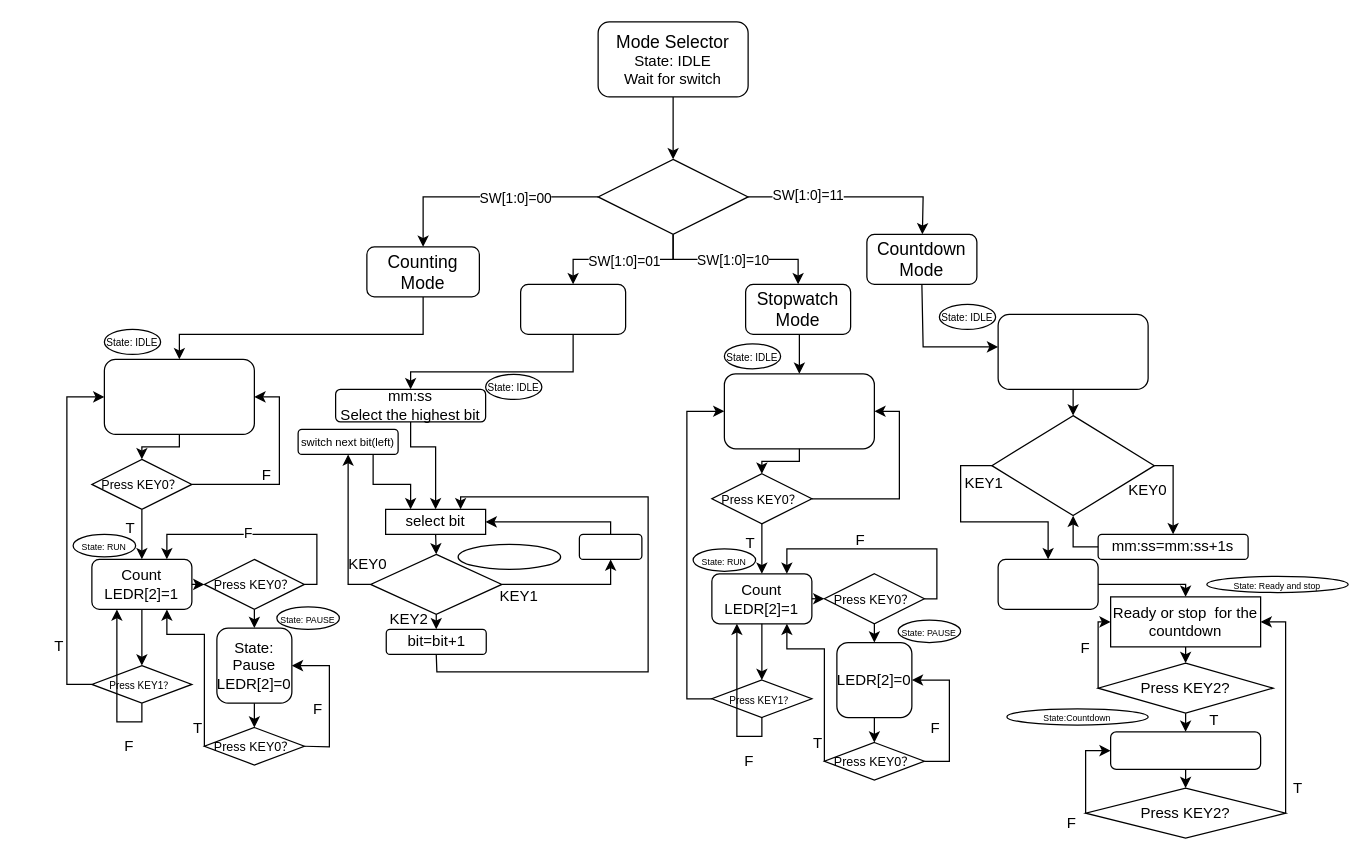
Some shapes in this 1370 by 864 pixel diagram are drawn without their labels. Here are the shapes that lost their labels. From the top down, the box of each, then its label:
(597, 158, 748, 234): SW[1:0]=?
(519, 283, 626, 334): Time Setting Mode
(997, 313, 1148, 389): mm:ss 00:00 set the countdown time
(103, 358, 254, 434): mm:ss LEDR[2]=0
(723, 372, 874, 449): sss:d LEDR[2]=0
(991, 414, 1154, 516): Press KEY0 or KEY1?
(457, 543, 561, 569): State: Cyclic selection bit
(578, 533, 642, 559): bit=bit-1
(369, 553, 502, 614): Press KEY0 orKEY1 or KEY2？
(997, 558, 1098, 609): Confirm the countdown time
(1109, 731, 1261, 769): Countdown
